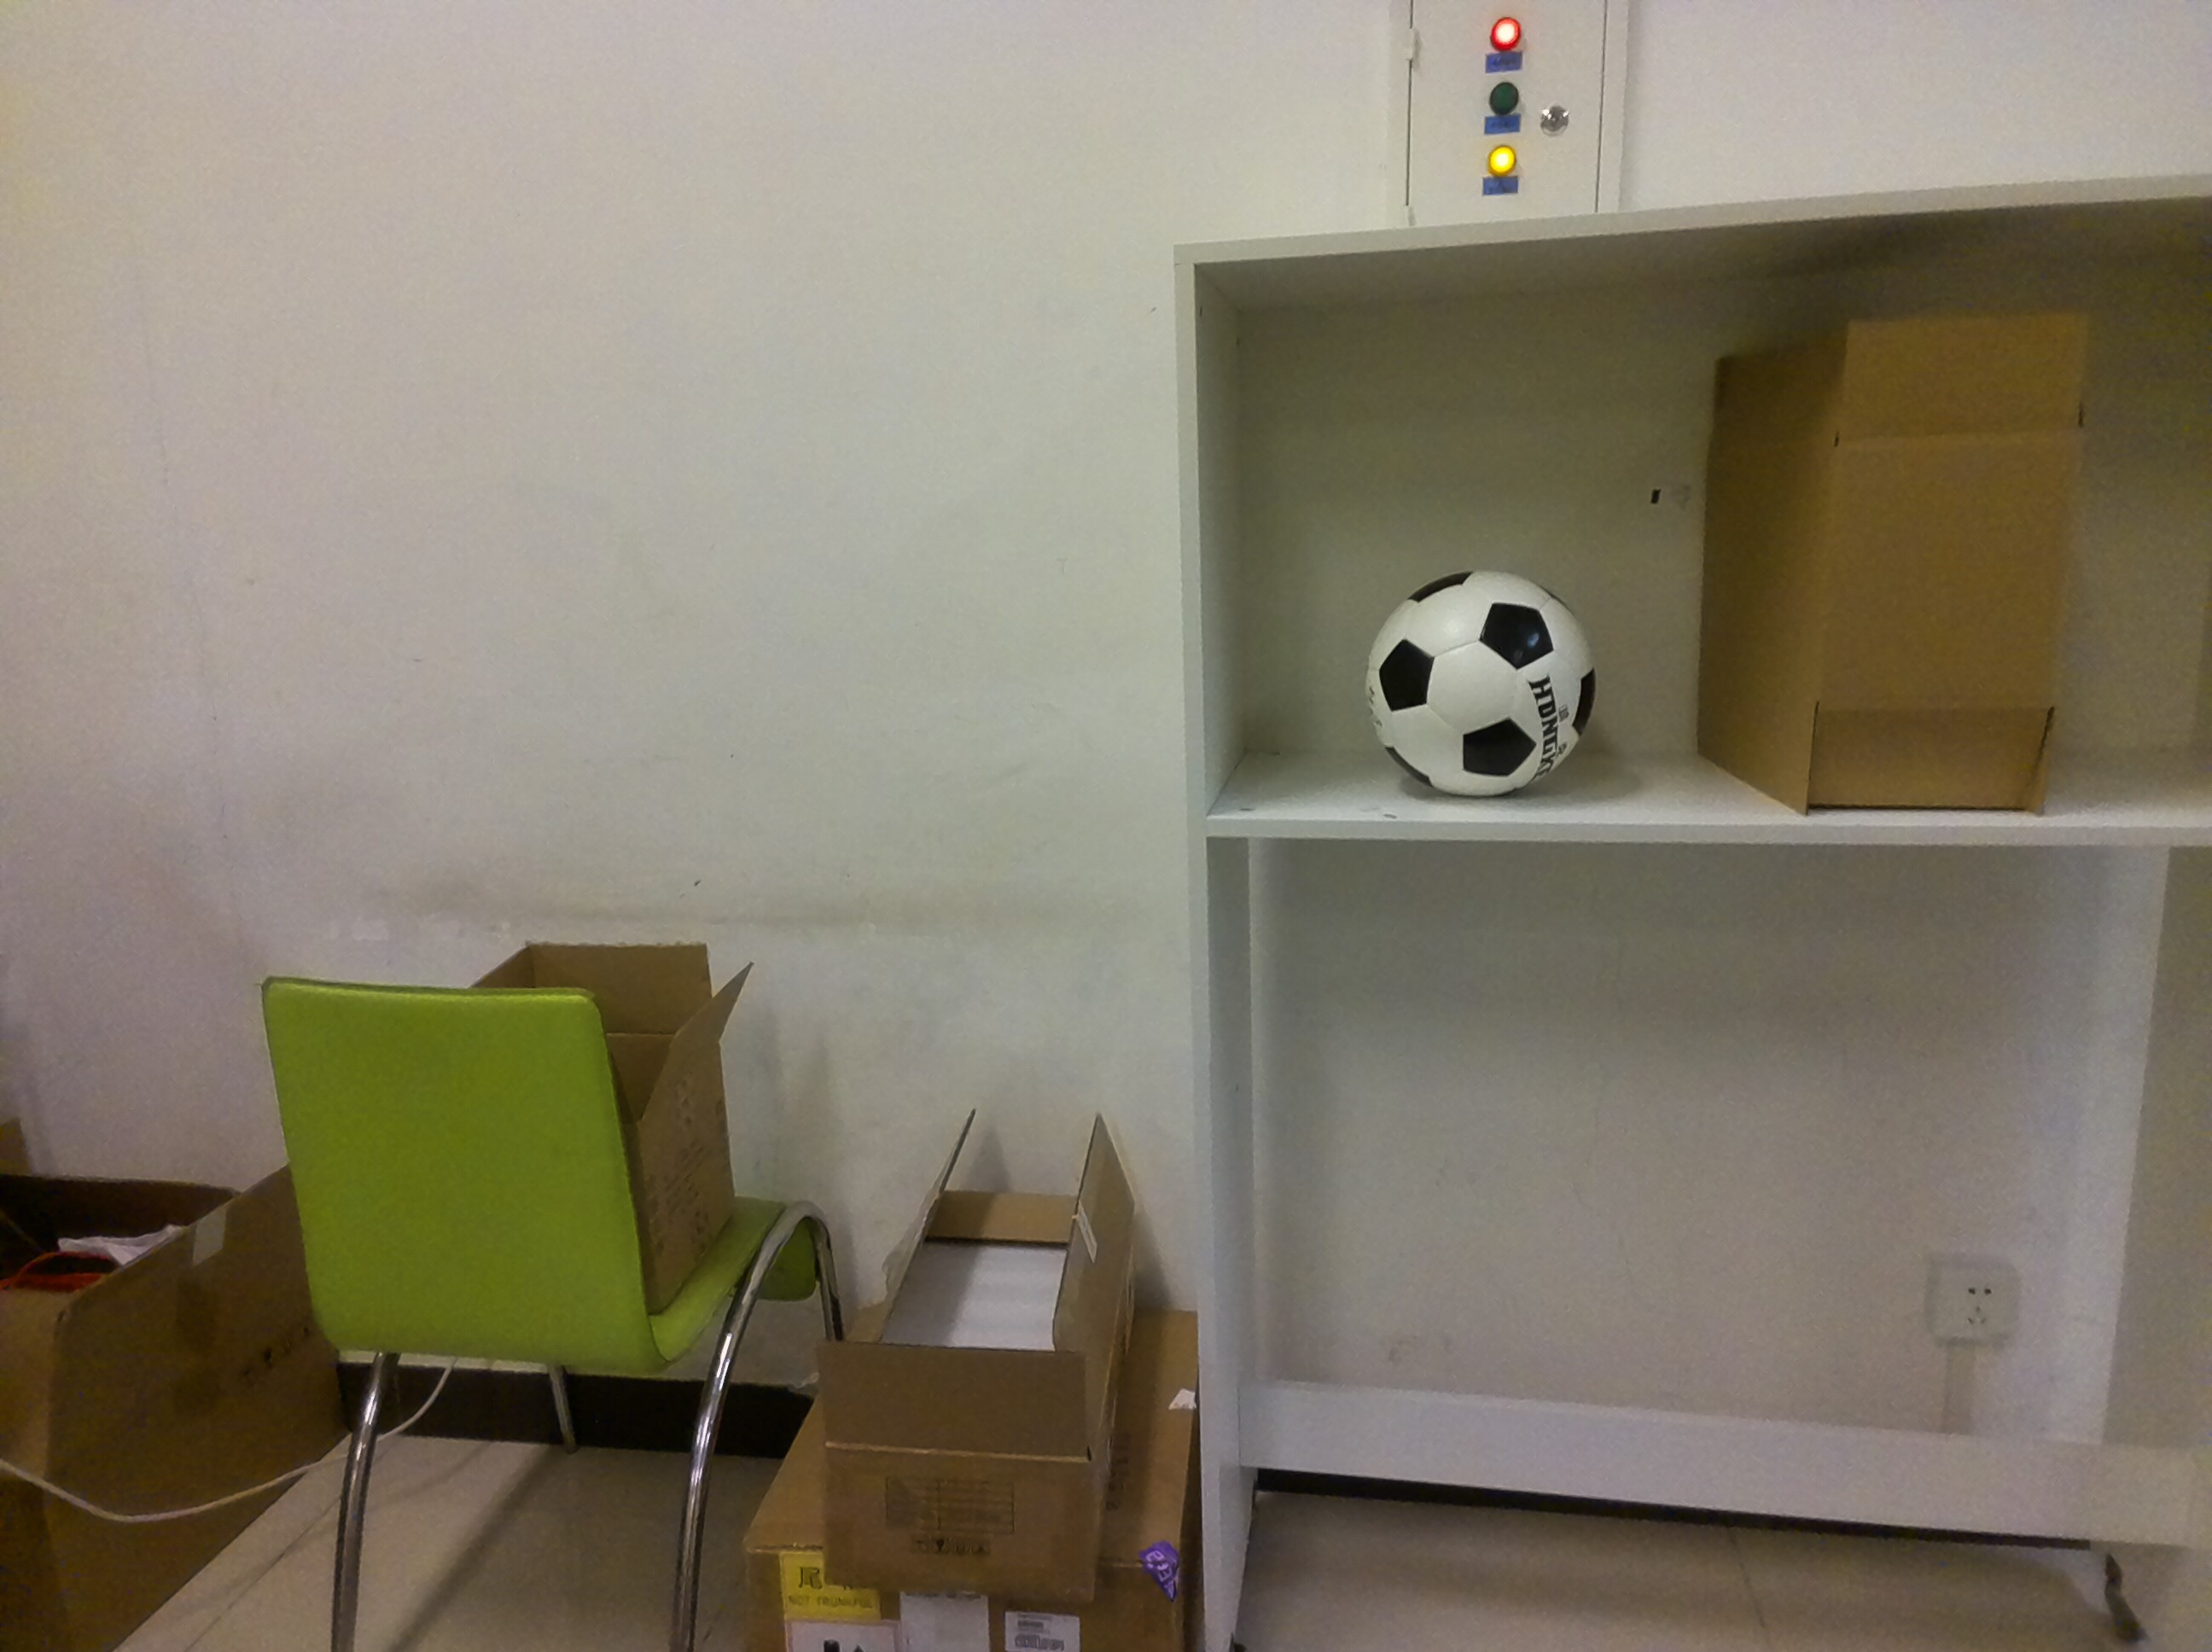football: (1367, 559, 1610, 809)
